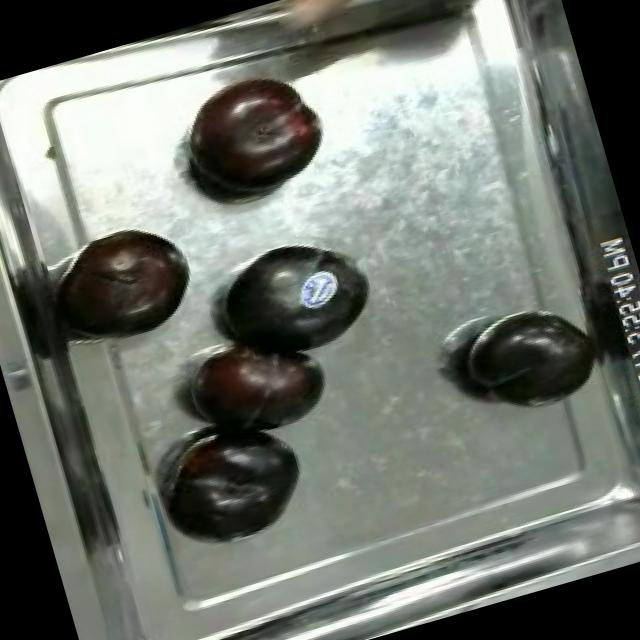Fruit: (200, 223, 372, 380), (167, 54, 337, 210), (148, 406, 320, 558), (447, 290, 612, 432), (174, 314, 340, 452), (54, 212, 205, 352)
